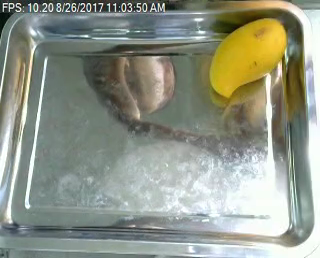Mango: (211, 13, 288, 100)
